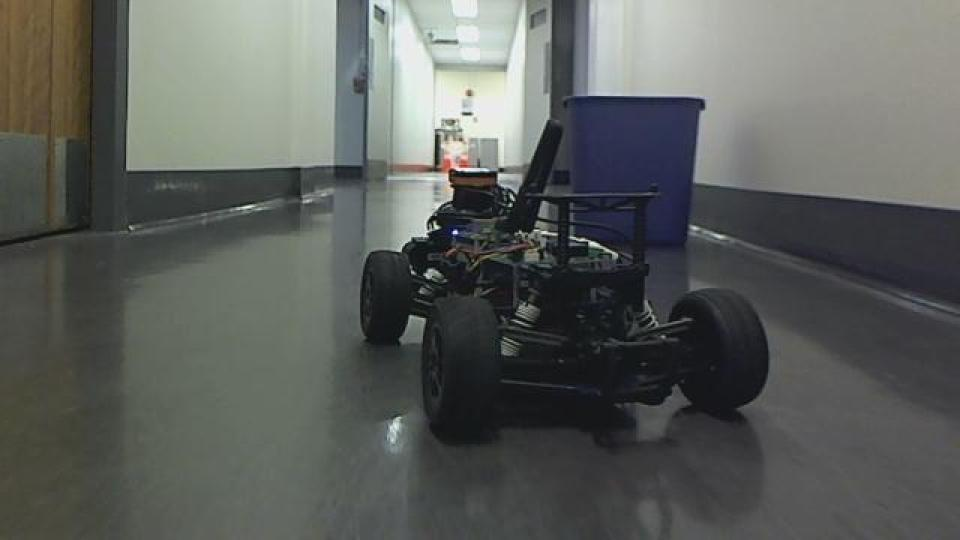car: (356, 116, 772, 448)
